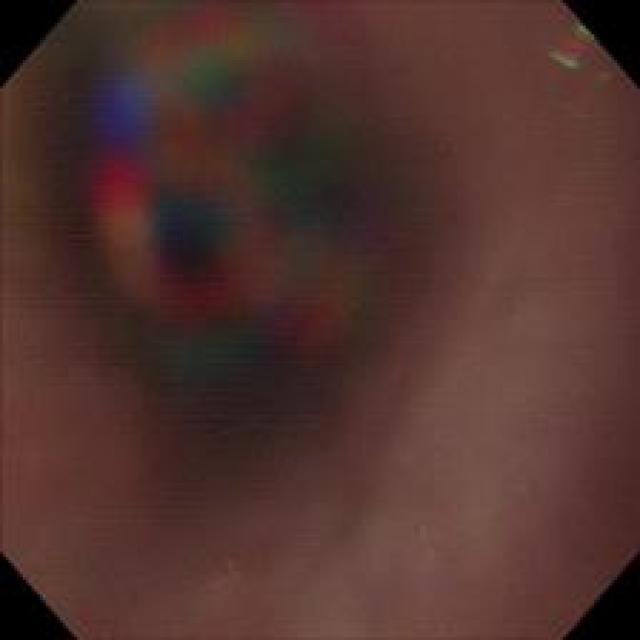blur: (5, 4, 639, 635)
color misalignment: (10, 8, 630, 625), (75, 14, 409, 434), (548, 11, 615, 115), (186, 528, 269, 592)
